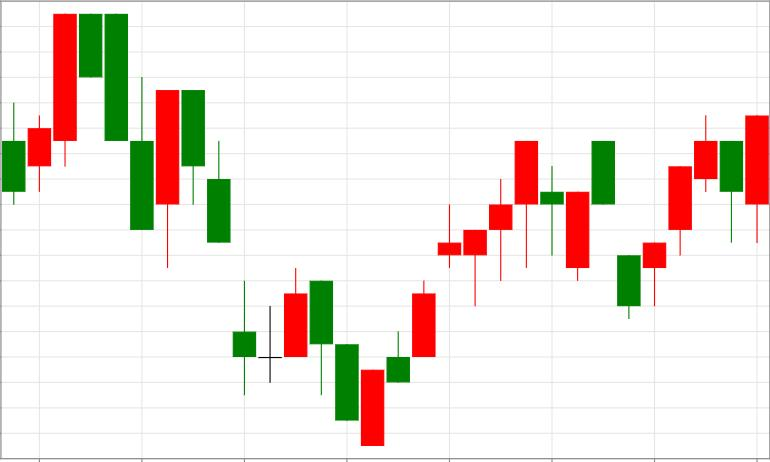hanging_man_fall: (361, 204, 487, 445)
morning_star_rise: (182, 90, 307, 395)
